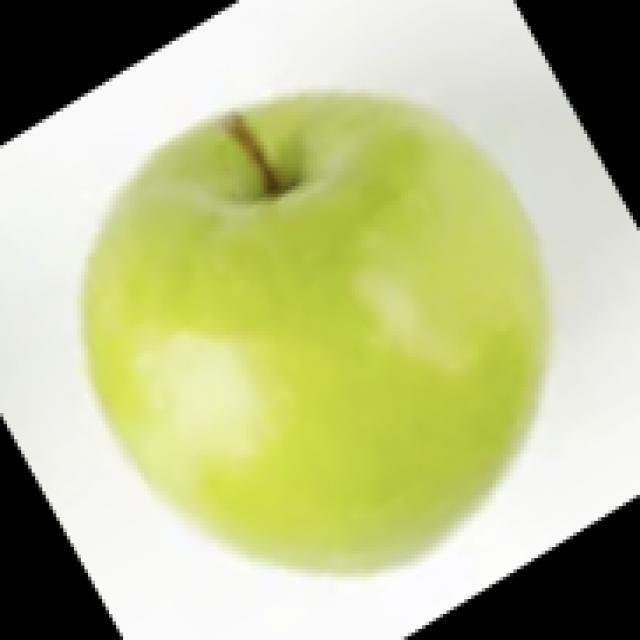Fresh Apple: (118, 97, 545, 565)
